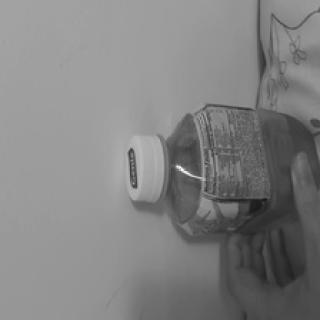plastic_bottles: (121, 105, 320, 239)
